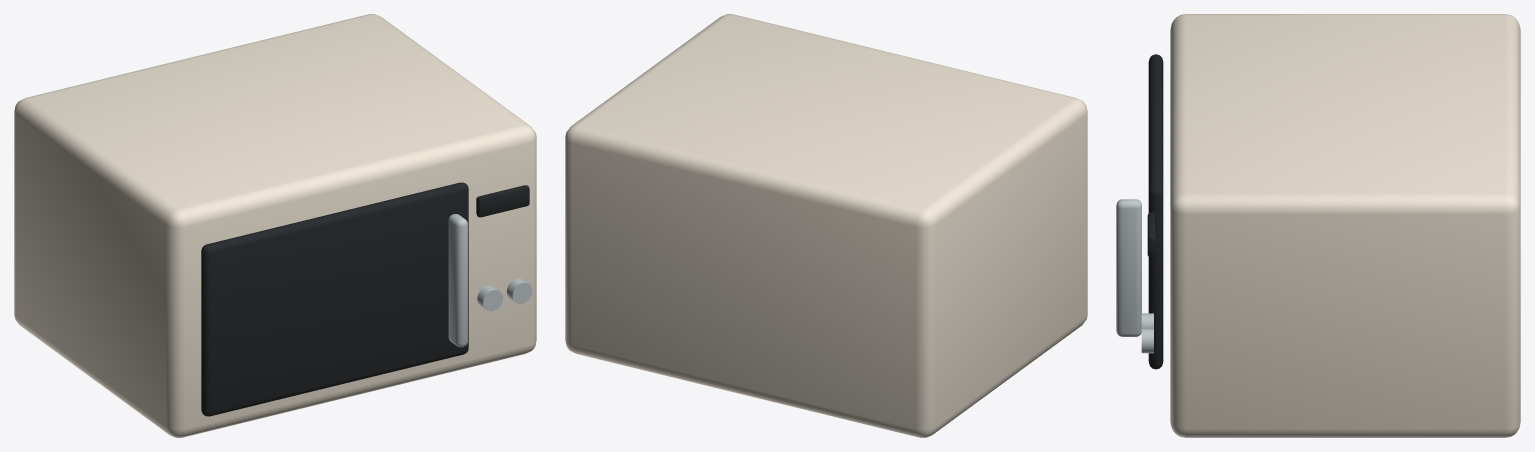
File: microondas_compacto_base.glb
3 renders of one model, left to right at view 1: azimuth 30°, elevation 25°; view 2: azimuth 150°, elevation 25°; view 3: azimuth 270°, elevation 25°, orthographic. The views are drawn at different scales.
Visible parts, largest first — view 1: microondas_compacto_base; view 2: microondas_compacto_base; view 3: microondas_compacto_base.
Part boxes in pixels (left/top/right/bottom): microondas_compacto_base: left=14, top=14, right=536, bottom=437; microondas_compacto_base: left=565, top=14, right=1087, bottom=437; microondas_compacto_base: left=1116, top=14, right=1520, bottom=437.
Size of the model in its own units: 0.44 by 0.26 by 0.3925.
